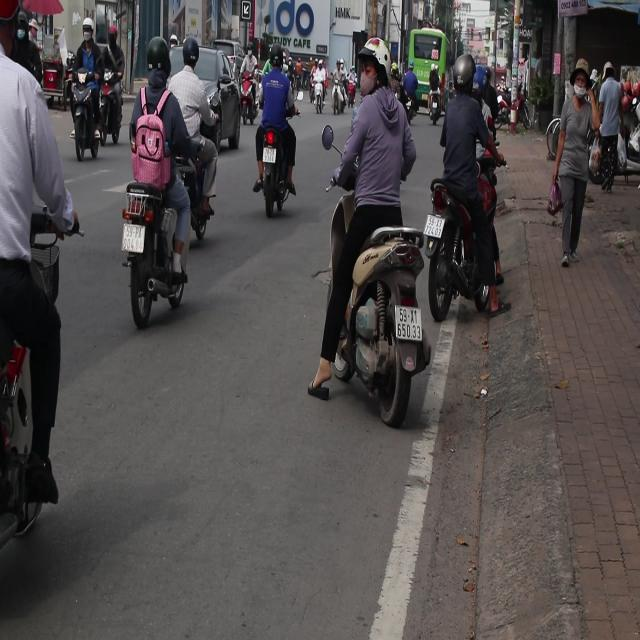bus: (407, 28, 450, 108)
car: (173, 42, 244, 150)
motorbike: (0, 227, 88, 537), (317, 206, 408, 457), (415, 169, 525, 365), (119, 161, 192, 328), (259, 126, 298, 220), (58, 73, 96, 164), (183, 150, 217, 241), (97, 64, 126, 144), (239, 75, 259, 125), (332, 74, 348, 122), (313, 73, 329, 114), (399, 82, 417, 116), (428, 90, 444, 125)
